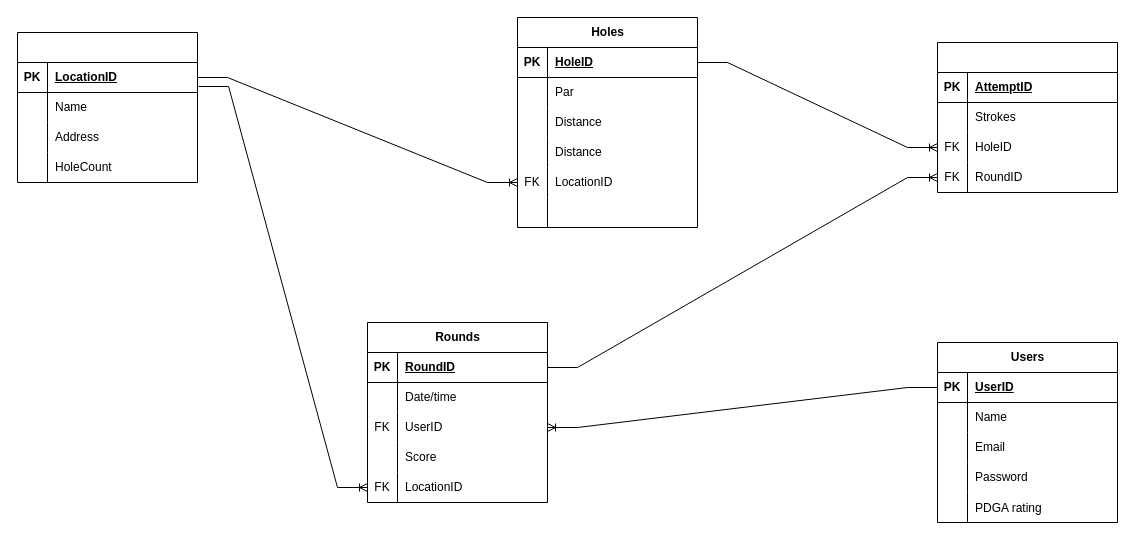
This 1135x540 diagram has some shape labels left out. The shapes that lost their labels are listed below. From the top down, each one's box as (x1, y1, x2, y2) in pixels, then its label:
(16, 32, 198, 182): Locations
(936, 42, 1118, 192): HoleAttempts
